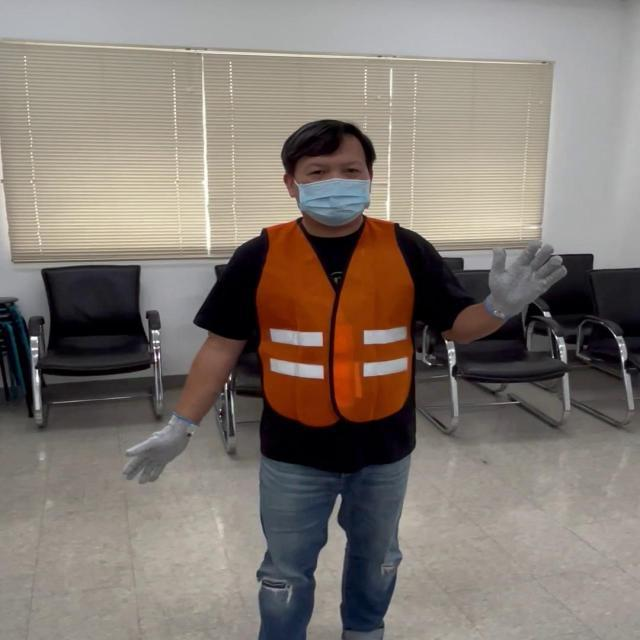gloved_hand: (479, 239, 562, 315), (127, 416, 200, 485)
